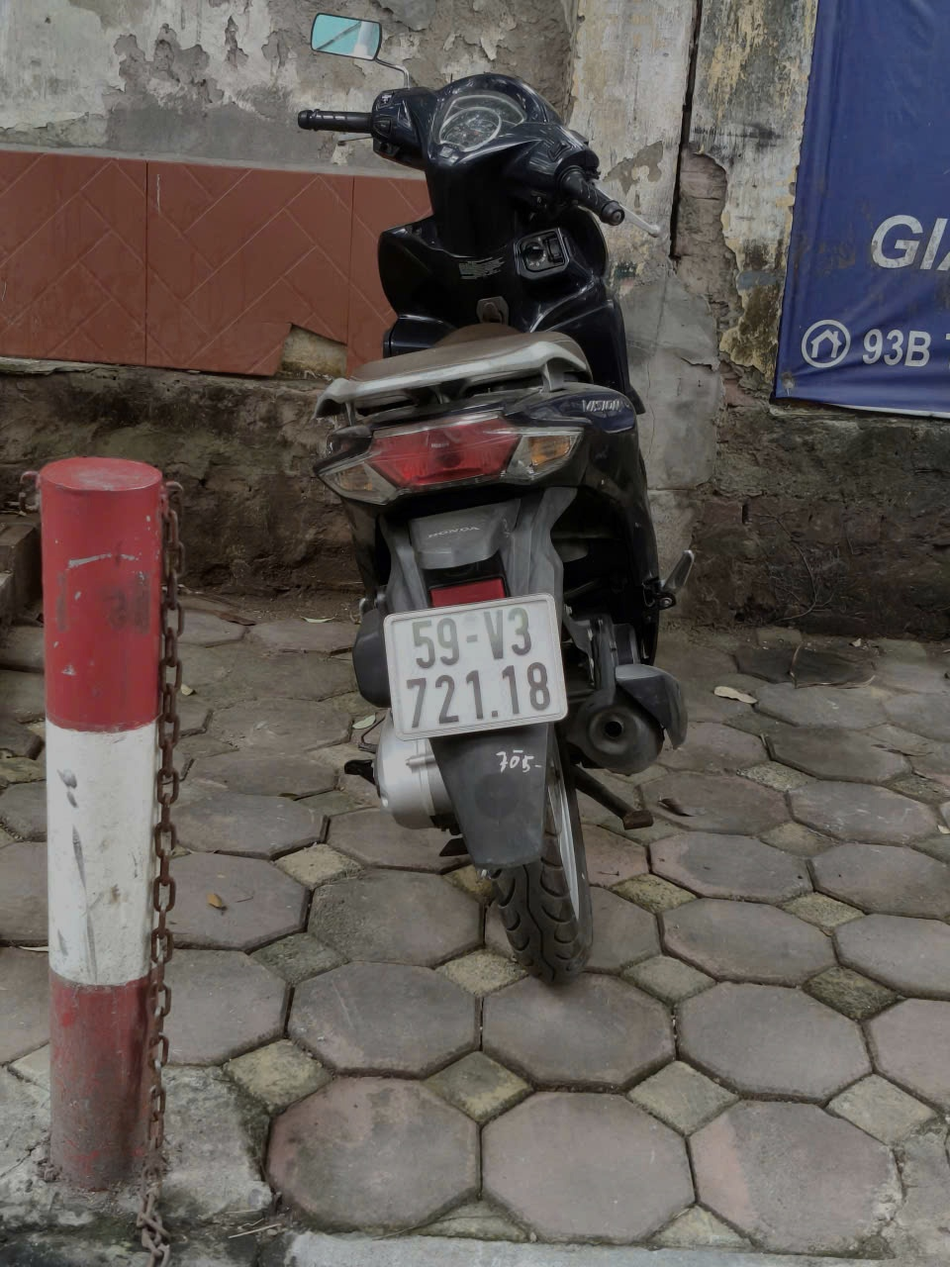plate: (390, 384, 523, 427)
